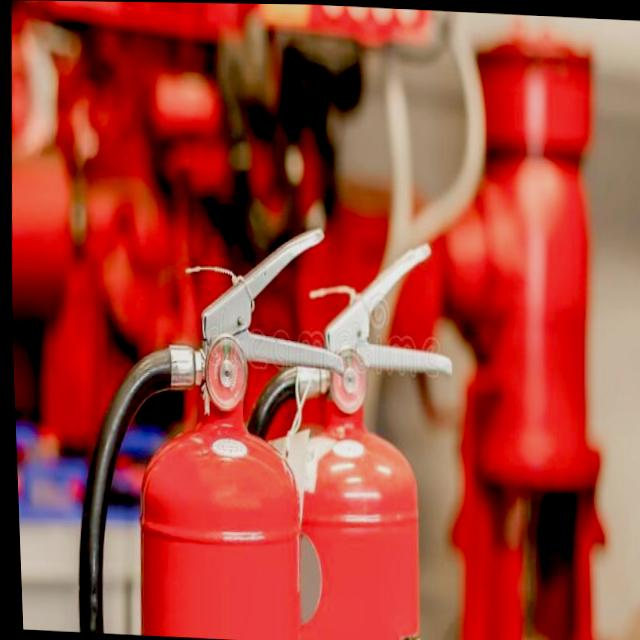FireExtinguisher: (56, 209, 358, 640), (209, 225, 465, 640)
